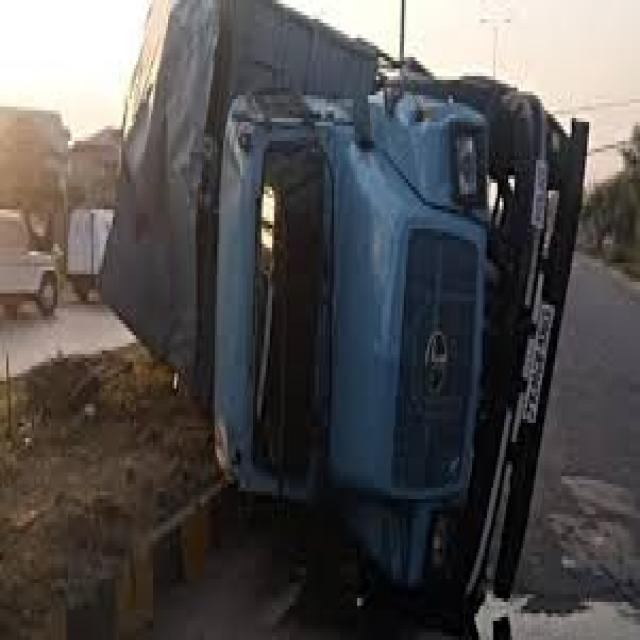accident: (113, 0, 597, 613)
